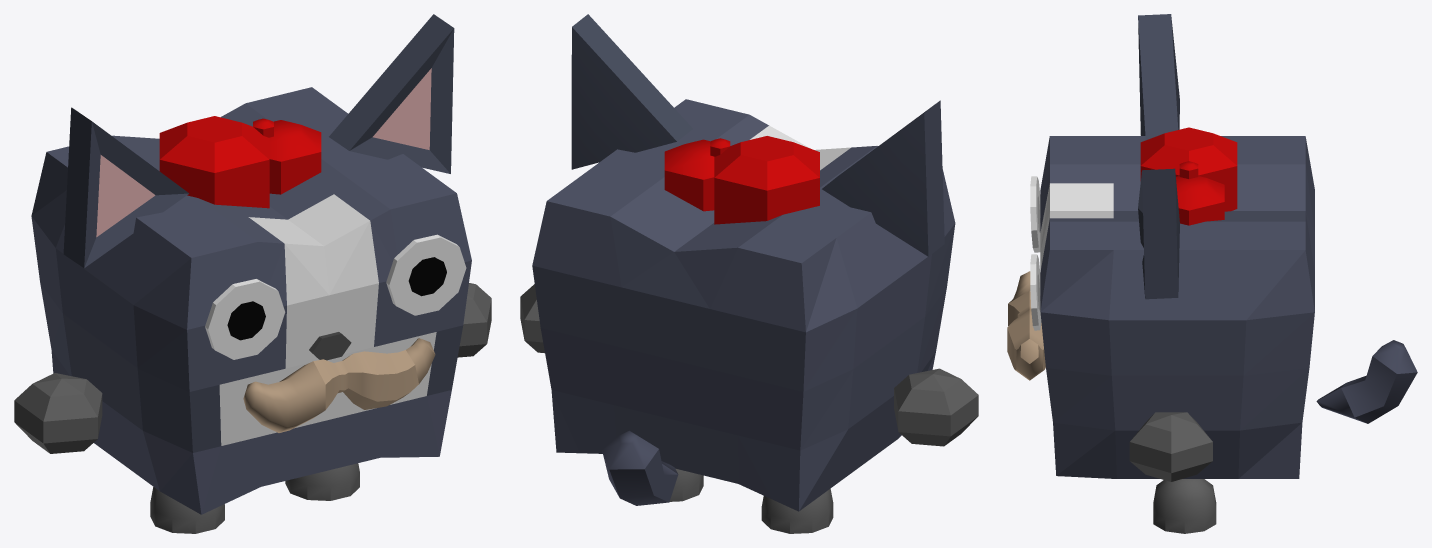
Rendered from Bulldog Frances.fbx.
3 views of the same model, side by side, from view 1: azimuth 30°, elevation 25°; view 2: azimuth 150°, elevation 25°; view 3: azimuth 270°, elevation 25° (orthographic). The views are drawn at different scales.
Parts seen in each view (by area): view 1: Body, L_Ear, R_Ear, Bigote, Hat_1, R_Hand, R_eye, L_eye, Hat_2, R_Leg, L_Leg, L_Hand (+1 smaller); view 2: Body, L_Ear, R_Ear, Hat_1, R_Hand, Cola, Hat_2, R_Leg, L_Hand, L_Leg; view 3: Body, L_Ear, R_Ear, L_Hand, Hat_1, Cola, L_Leg, Bigote, Hat_2, L_eye, R_eye.
Boxes of the visible parts, x1,y1,x2,y2 form: Body: (31, 87, 471, 514); L_Ear: (329, 14, 454, 173); R_Ear: (63, 107, 188, 268); Bigote: (243, 338, 435, 432); Hat_1: (159, 116, 269, 208); R_Hand: (14, 373, 102, 453); R_eye: (205, 279, 285, 359); L_eye: (386, 234, 466, 315); Hat_2: (269, 120, 321, 194); R_Leg: (150, 487, 224, 533); L_Leg: (285, 463, 359, 500); L_Hand: (457, 283, 491, 357); Body: (532, 99, 955, 511); L_Ear: (571, 14, 692, 169); R_Ear: (822, 100, 944, 256); Hat_1: (714, 136, 819, 224); R_Hand: (894, 368, 978, 446); Cola: (602, 430, 678, 505); Hat_2: (664, 139, 714, 211); R_Leg: (761, 488, 833, 533); L_Hand: (520, 284, 544, 353); L_Leg: (669, 468, 703, 501); Body: (1040, 136, 1314, 478); L_Ear: (1138, 168, 1179, 299); R_Ear: (1138, 14, 1179, 140); L_Hand: (1129, 412, 1212, 481); Hat_1: (1140, 127, 1237, 211); Cola: (1316, 340, 1417, 423); L_Leg: (1153, 479, 1216, 533); Bigote: (1007, 271, 1045, 380); Hat_2: (1176, 176, 1224, 225); L_eye: (1030, 254, 1041, 330); R_eye: (1030, 176, 1040, 252).
Size of the model in its own units: 1.6 by 1.49 by 1.4.
